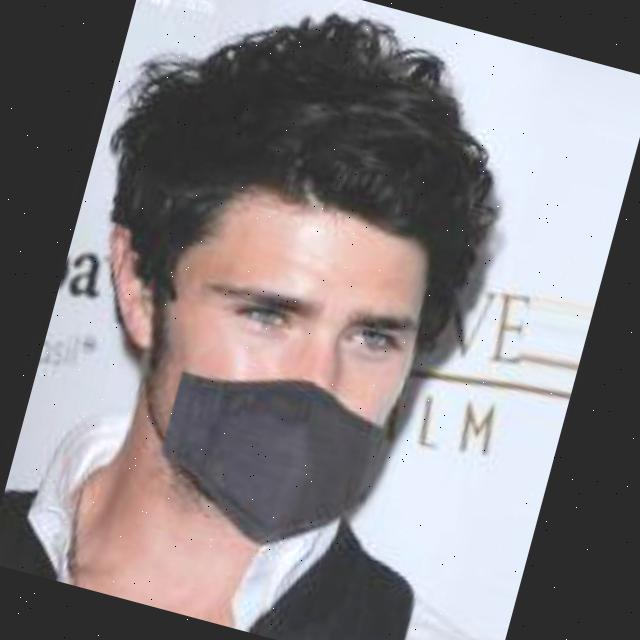suspicion: (63, 122, 484, 566)
